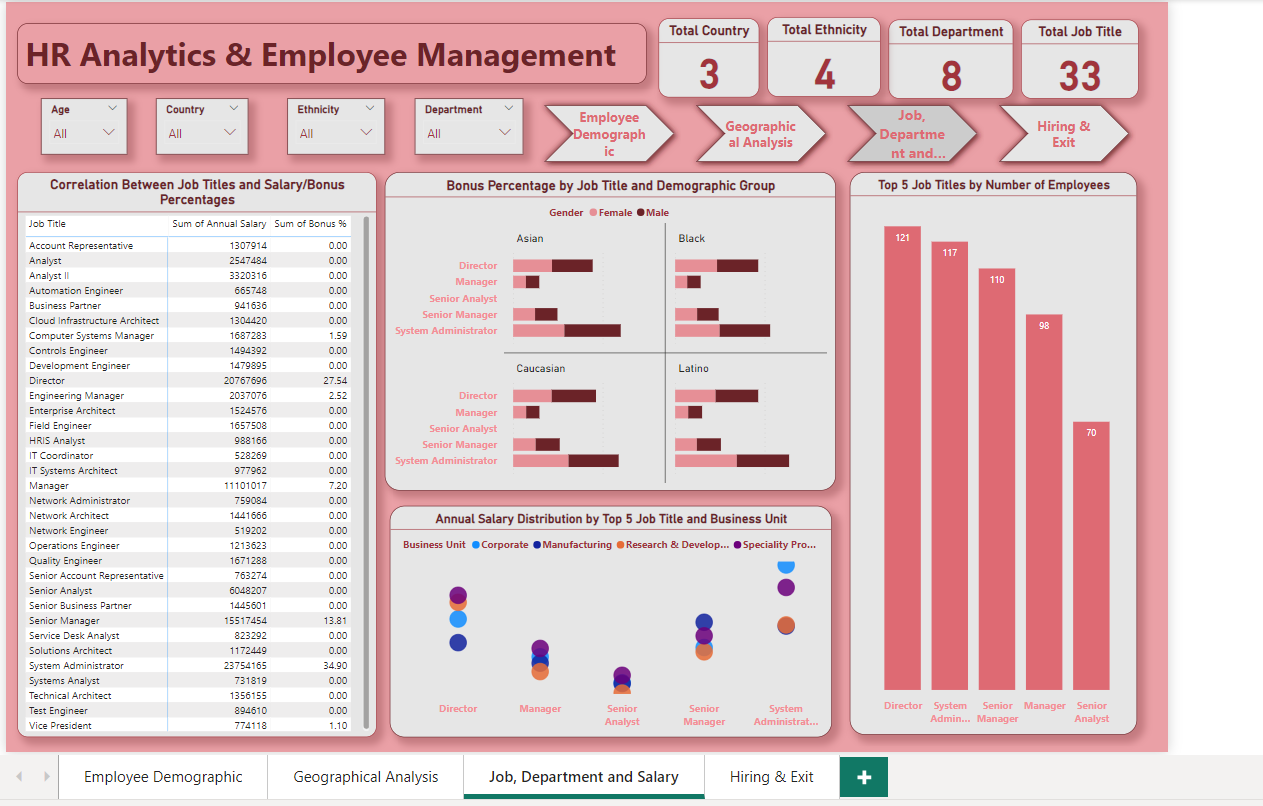

Layout of this report page (visuals, bound fields, positions):
{"tool":"powerbi","page":{"name":"Job, Department and Salary ","canvas":[1550,1000],"ordinal":2},"visuals":[{"type":"card","title":"Total Country","fields":{"Values":["Count(TBL_Employees.Country)"]},"box":[870.3,21.5,134.1,105.5],"z":0},{"type":"card","title":"Total Department","fields":{"Values":["Count(TBL_Employees.Department)"]},"box":[1176.9,22.7,166.3,105.5],"z":1000},{"type":"card","title":"Total Ethnicity","fields":{"Values":["Count(TBL_Employees.Ethnicity)"]},"box":[1015.5,20.3,151.4,106.8],"z":2000},{"type":"card","title":"Total Job Title","fields":{"Values":["Count(TBL_Employees.Job Title)"]},"box":[1353.2,22.7,156.4,105.5],"z":3000},{"type":"pivotTable","title":"Correlation Between Job Titles and Salary/Bonus Percentages","fields":{"Rows":["TBL_Employees.Job Title"],"Values":["Sum(TBL_Employees.Annual Salary)","Sum(TBL_Employees.Bonus %)"]},"box":[14.9,226.4,479.3,753.7],"z":4000},{"type":"clusteredColumnChart","title":"Top 5 Job Titles by Number of Employees","fields":{"Category":["TBL_Employees.Job Title"],"Y":["CountNonNull(TBL_Employees.Employee ID)"]},"box":[1125,226.7,383.3,750],"z":5000},{"type":"textbox","box":[14.9,28.1,839.3,81],"z":6000},{"type":"scatterChart","title":"Annual Salary Distribution by Top 5  Job Title and Business Unit","fields":{"Y":["Sum(TBL_Employees.Annual Salary)"],"X":["TBL_Employees.Job Title"],"Series":["TBL_Employees.Business Unit"]},"box":[512.4,671.1,589.8,309.1],"z":7000},{"type":"barChart","title":"Bonus Percentage by Job Title and Demographic Group","fields":{"Category":["TBL_Employees.Job Title"],"Y":["Avg(TBL_Employees.Bonus %)"],"Series":["TBL_Employees.Gender"],"Rows":["TBL_Employees.Ethnicity"]},"box":[505.8,226.4,601.7,424.8],"z":8000},{"type":"slicer","fields":{"Values":["TBL_Employees.Age"]},"box":[46.7,128.3,115,75],"z":9000},{"type":"slicer","fields":{"Values":["TBL_Employees.Country"]},"box":[200,128.3,123.3,75],"z":10000},{"type":"slicer","fields":{"Values":["TBL_Employees.Department"]},"box":[545,128.3,145,75],"z":11000},{"type":"slicer","fields":{"Values":["TBL_Employees.Ethnicity"]},"box":[375,128.3,130,75],"z":12000},{"type":"pageNavigator","box":[708.6,128.6,800,94.3],"z":13000}]}

Visuals, with their boxes on the page's 1550x1000 design canvas (x1, y1, x2, y2). These are canvas units, not pixel positions in the 1263x806 screenshot, which may show the page scaled, cropped or inside an application window:
"Total Country" card: (870, 22, 1004, 127)
"Total Department" card: (1177, 23, 1343, 128)
"Total Ethnicity" card: (1016, 20, 1167, 127)
"Total Job Title" card: (1353, 23, 1510, 128)
"Correlation Between Job Titles and Salary/Bonus Percentages" pivotTable: (15, 226, 494, 980)
"Top 5 Job Titles by Number of Employees" clusteredColumnChart: (1125, 227, 1508, 977)
textbox: (15, 28, 854, 109)
"Annual Salary Distribution by Top 5  Job Title and Business Unit" scatterChart: (512, 671, 1102, 980)
"Bonus Percentage by Job Title and Demographic Group" barChart: (506, 226, 1108, 651)
slicer - TBL_Employees.Age: (47, 128, 162, 203)
slicer - TBL_Employees.Country: (200, 128, 323, 203)
slicer - TBL_Employees.Department: (545, 128, 690, 203)
slicer - TBL_Employees.Ethnicity: (375, 128, 505, 203)
pageNavigator: (709, 129, 1509, 223)
